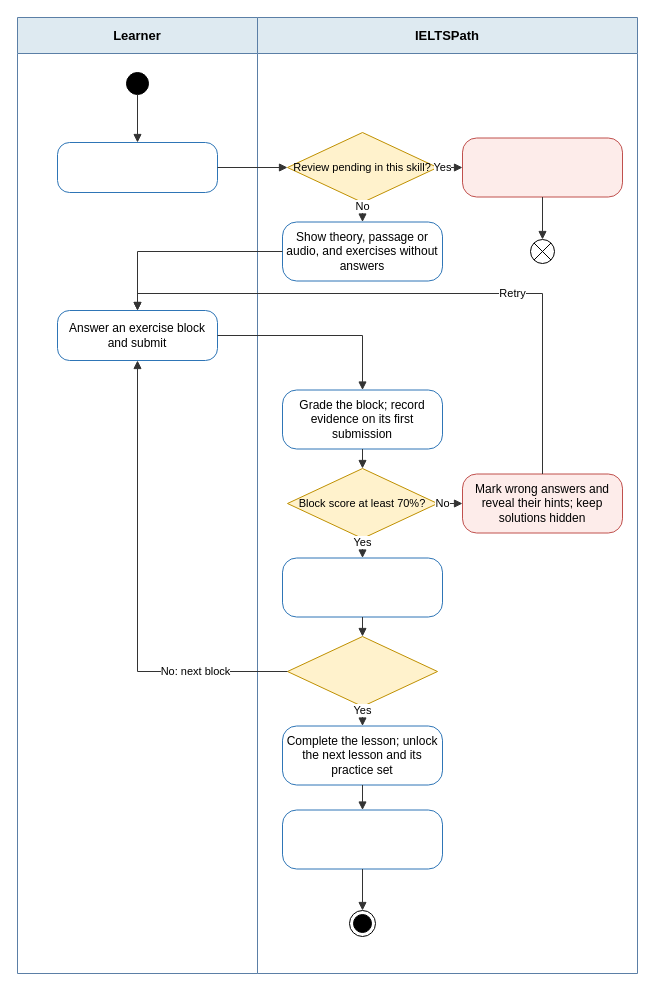
Image size: 655x991. Some labels were removed from this diagram. The shapes that lost their labels are listed below. From the top down, each one's centre as x and y in pixels, then its label:
At point (137, 167): "Open the next lesson of the in-progress topic".
At point (542, 167): "Refuse and point to the review; other skills stay open".
At point (362, 587): "Show correct answers and explanations for the block".
At point (362, 671): "All exercise blocks passed?".
At point (362, 839): "Update KP mastery; count the day toward the streak".
